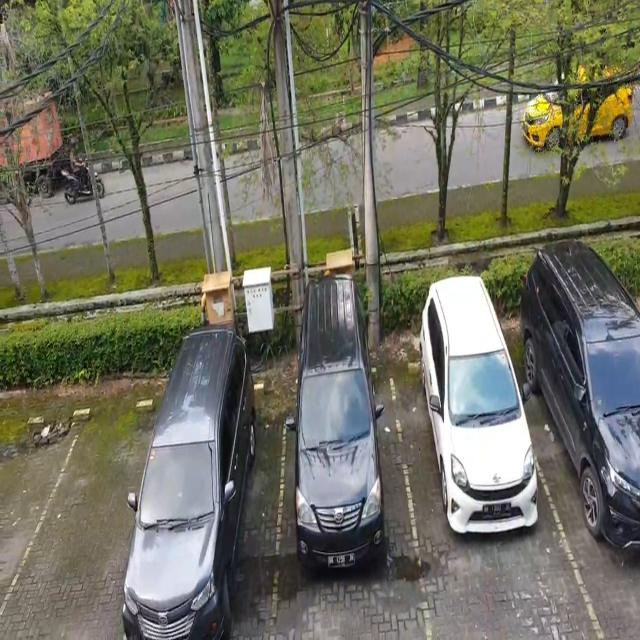empty: (22, 406, 123, 640)
occupied: (122, 392, 284, 640), (408, 324, 542, 594), (276, 357, 408, 626), (539, 282, 640, 601)
